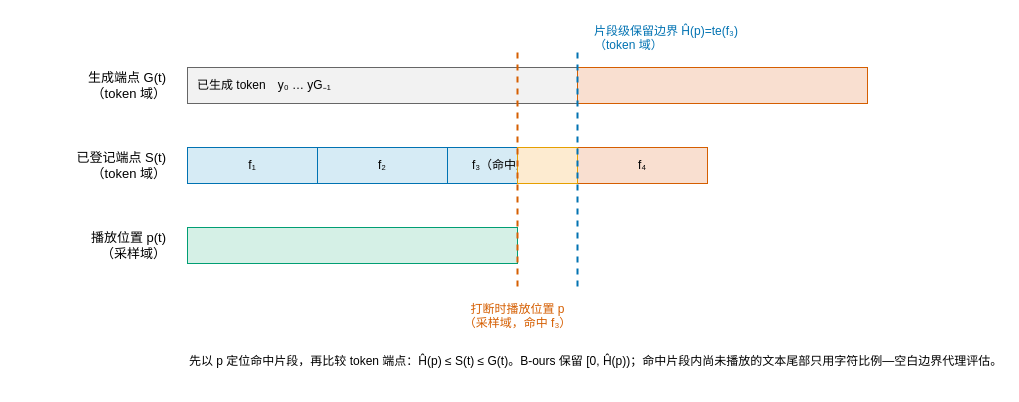
Image size: 1019x402. Some labels were removed from this diagram. The shapes that lost their labels are listed below. From the top down, each one's centre as x and y in pixels, then its label:
pixel 722 85: 完整未播放片段（B-gen 保留后产生复现风险）
pixel 547 165: 字符比例 + 空白边界 proxy
pixel 352 245: 已播放采样 [0, p)
